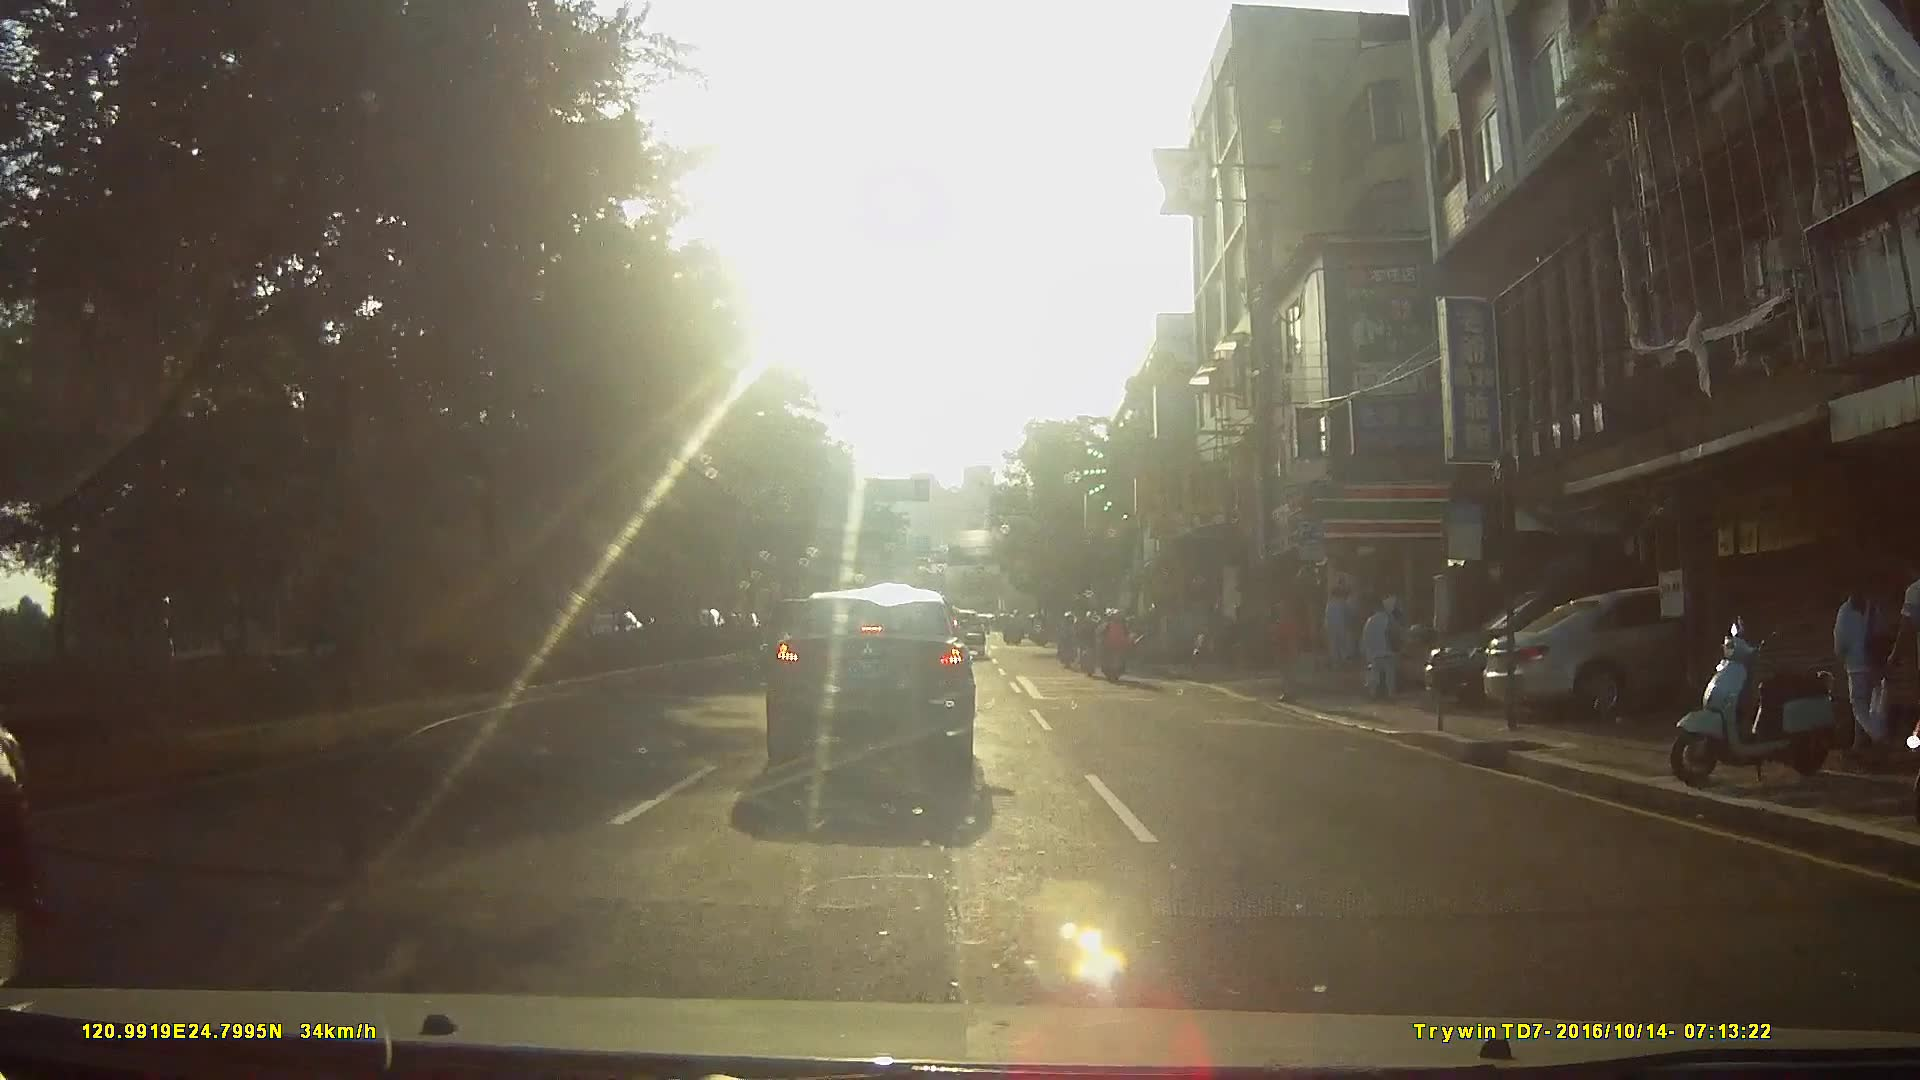pedestrian: (1836, 567, 1898, 760), (1892, 555, 1920, 760), (1356, 587, 1403, 699), (1273, 589, 1303, 699)
rider: (1095, 600, 1133, 680), (1075, 608, 1101, 678), (1056, 611, 1079, 672)
vehicle: (1473, 580, 1854, 722), (747, 575, 996, 777)
